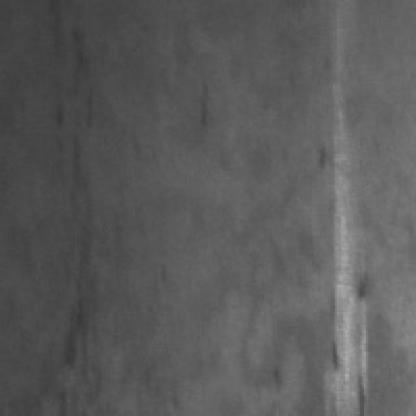scratches: (318, 106, 366, 416)
